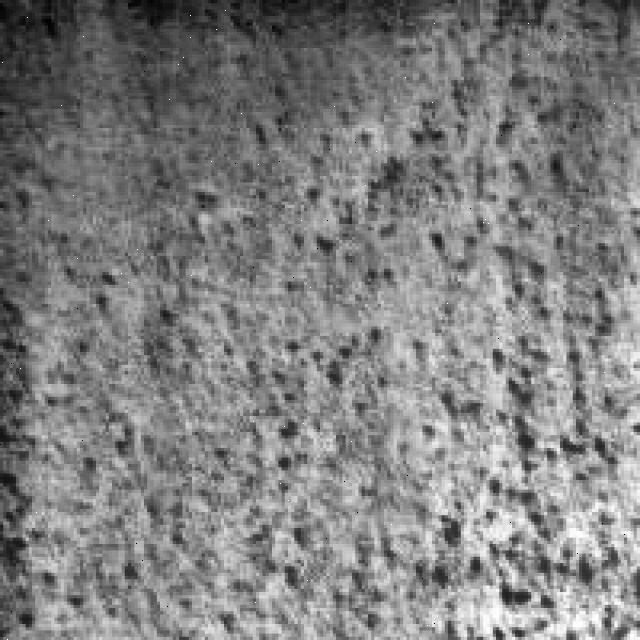Rolled_in_Scale: (442, 77, 614, 608), (39, 122, 468, 304), (224, 329, 419, 576), (12, 272, 134, 627)
